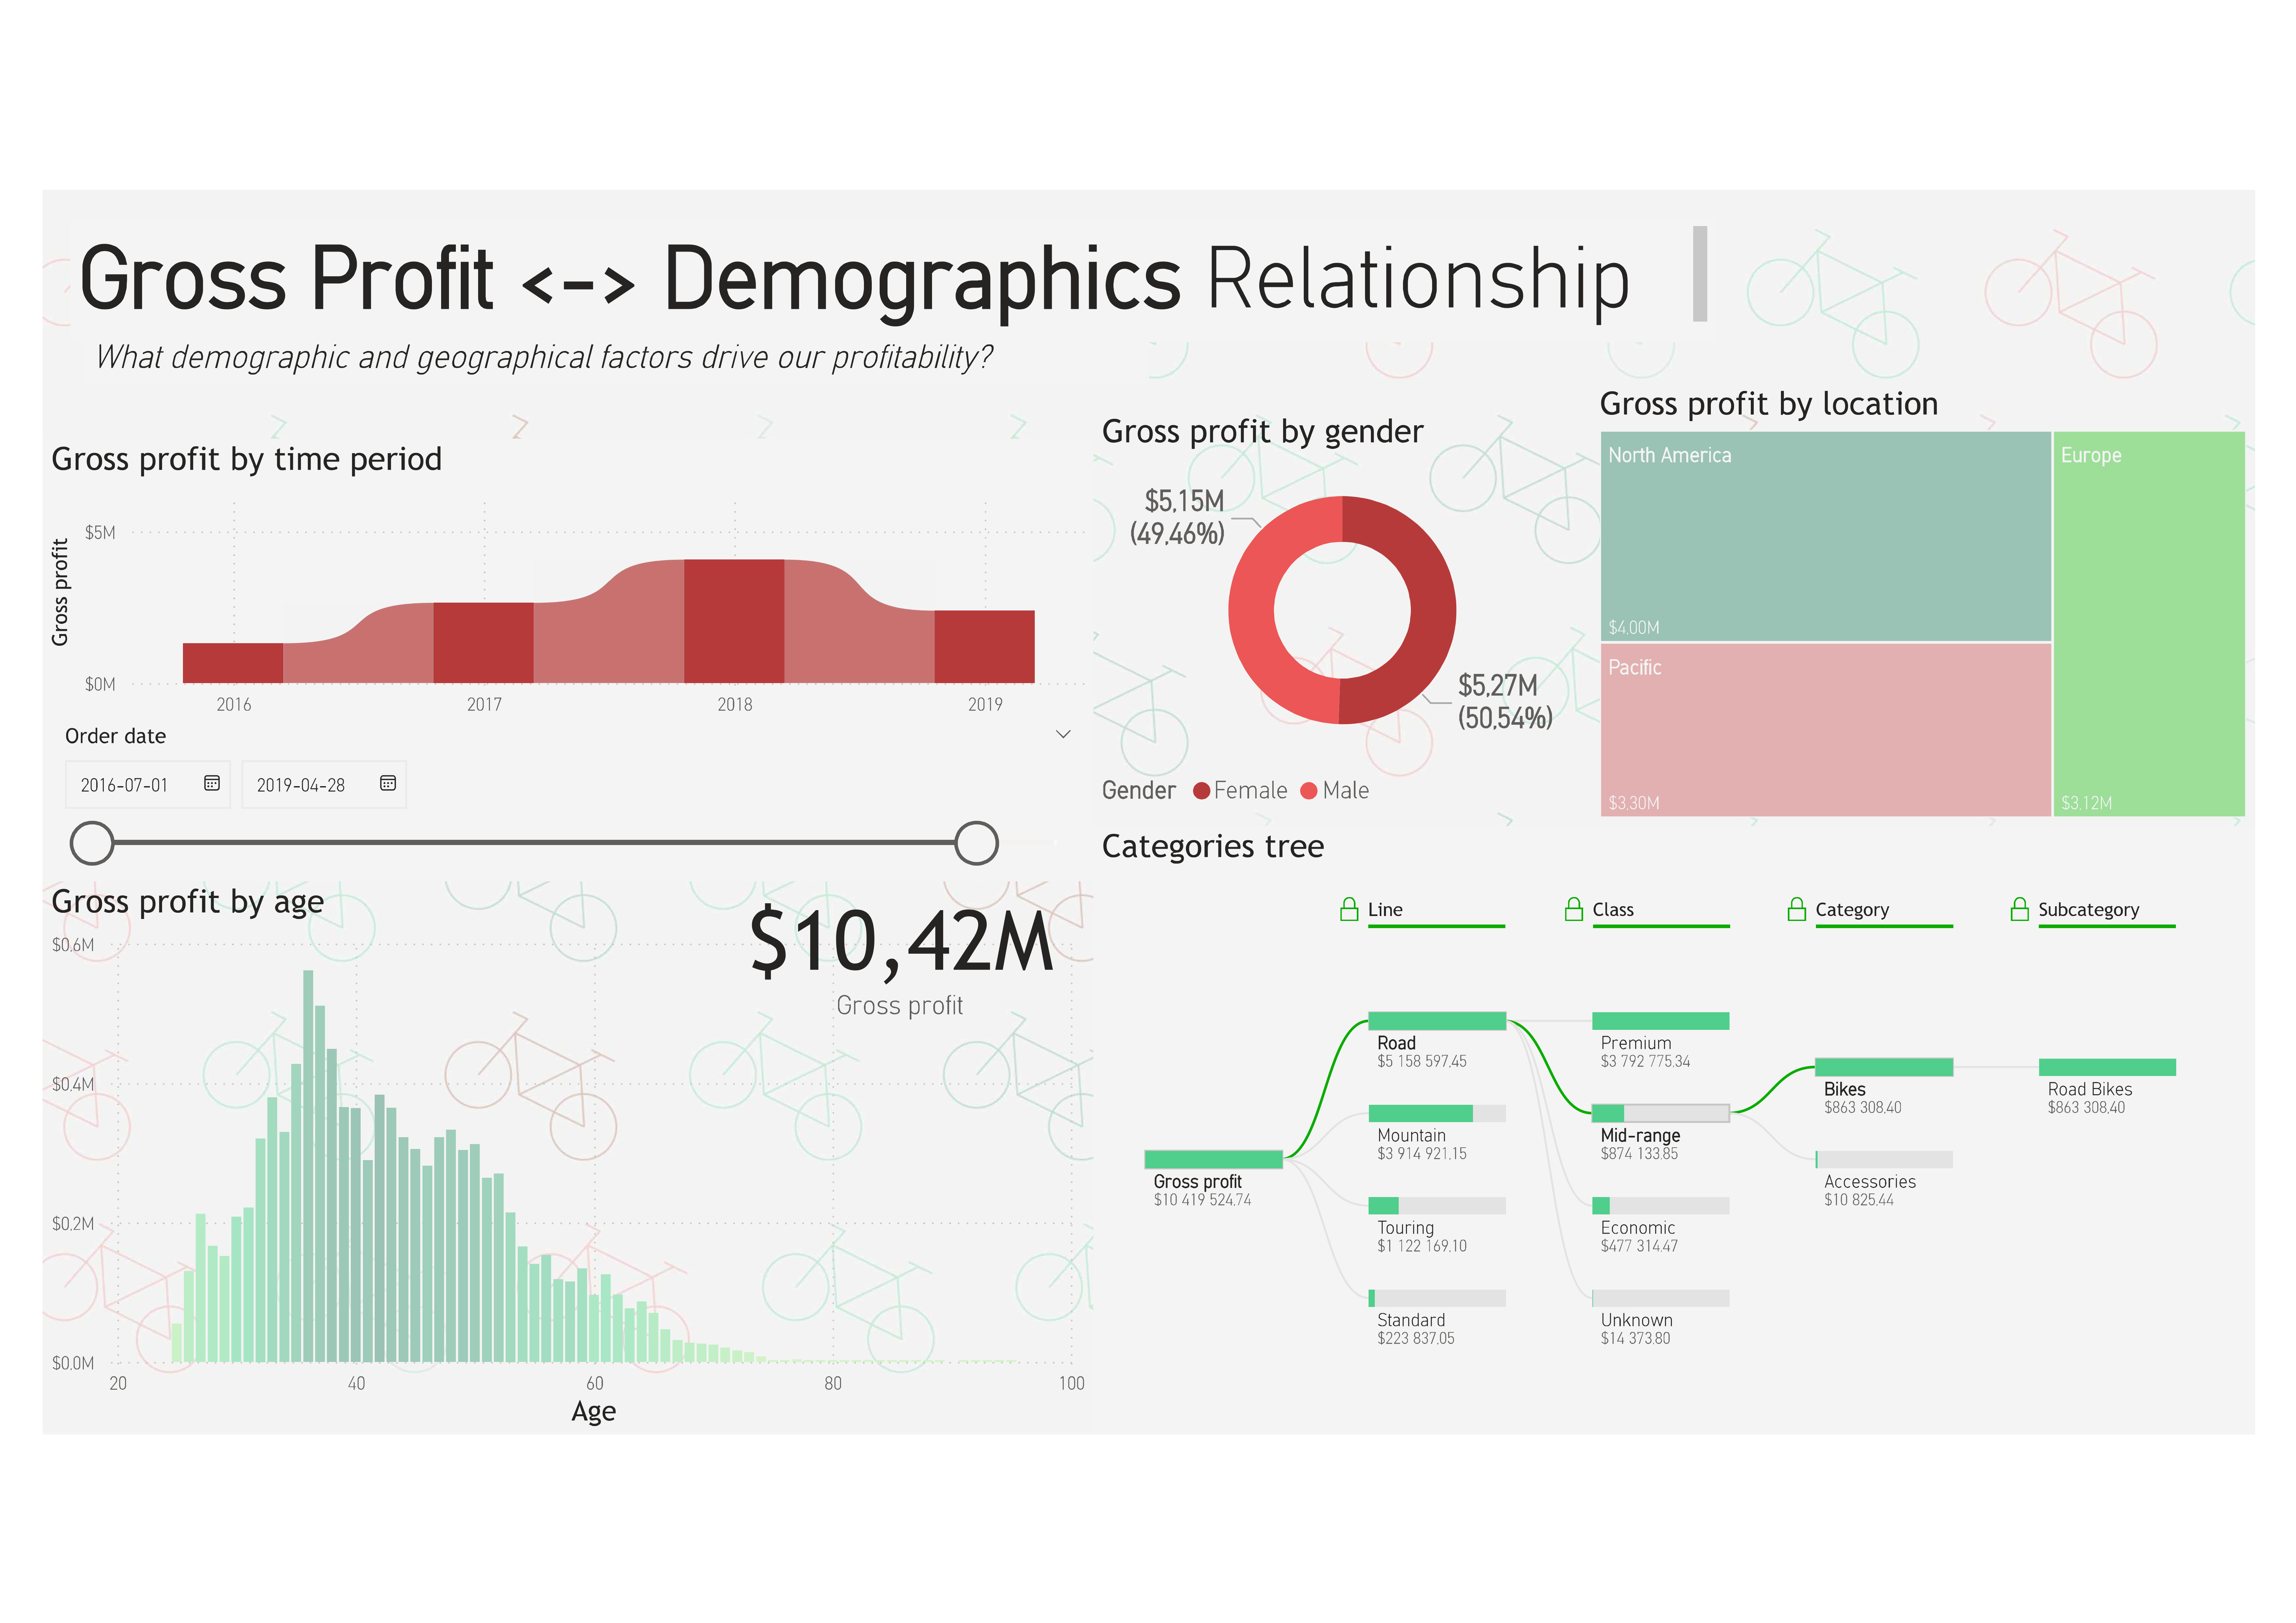

The dashboard page shown, as its layout file describes it:
{"tool":"powerbi","page":{"name":"Page 2","canvas":[1280,720],"ordinal":0},"visuals":[{"type":"donutChart","title":"Gross profit by gender","fields":{"Category":["Customers.Gender"],"Y":["Customers.Gross profit"]},"box":[608,128,288,240],"z":0},{"type":"treemap","title":"Gross profit by location","fields":{"Group":["dimTerritory.Continent","dimTerritory.Country","dimTerritory.Region"],"Values":["Customers.Gross profit"]},"box":[896,112,384,256],"z":1000},{"type":"decompositionTreeVisual","title":"Categories tree","fields":{"Analyze":["Customers.Gross profit"],"ExplainBy":["dimProducts.ProductLine","dimProducts.Class","dimProductSubCategory.ProductCategoryName","dimProductSubCategory.ProductSubcategoryName"]},"box":[608,368,672,352],"z":2000},{"type":"columnChart","title":"Gross profit by age","fields":{"Category":["Customers.Age"],"Y":["Customers.Gross profit"]},"box":[0,400,608,320],"z":3000},{"type":"card","fields":{"Values":["Customers.Gross profit"]},"box":[368,368,256,144],"z":4000},{"type":"ribbonChart","title":"Gross profit by time period","fields":{"Category":["Sales.OrderDate.Variation.Date Hierarchy.Year","Sales.OrderDate.Variation.Date Hierarchy.Quarter","Sales.OrderDate.Variation.Date Hierarchy.Month","Sales.OrderDate.Variation.Date Hierarchy.Day"],"Y":["Customers.Gross profit"]},"box":[0,144,608,168],"z":5000},{"type":"slicer","fields":{"Values":["Sales.OrderDate"]},"box":[0,304,608,96],"z":6000},{"type":"textbox","box":[16,16,952,72],"z":7000},{"type":"textbox","box":[24,80,616,32],"z":7001}]}

Visuals, with their boxes on the page's 1280x720 design canvas (x1, y1, x2, y2). These are canvas units, not pixel positions in the 2296x1623 screenshot, which may show the page scaled, cropped or inside an application window:
"Gross profit by gender" donutChart: BBox(608, 128, 896, 368)
"Gross profit by location" treemap: BBox(896, 112, 1280, 368)
"Categories tree" decompositionTreeVisual: BBox(608, 368, 1280, 720)
"Gross profit by age" columnChart: BBox(0, 400, 608, 720)
card - Customers.Gross profit: BBox(368, 368, 624, 512)
"Gross profit by time period" ribbonChart: BBox(0, 144, 608, 312)
slicer - Sales.OrderDate: BBox(0, 304, 608, 400)
textbox: BBox(16, 16, 968, 88)
textbox: BBox(24, 80, 640, 112)
